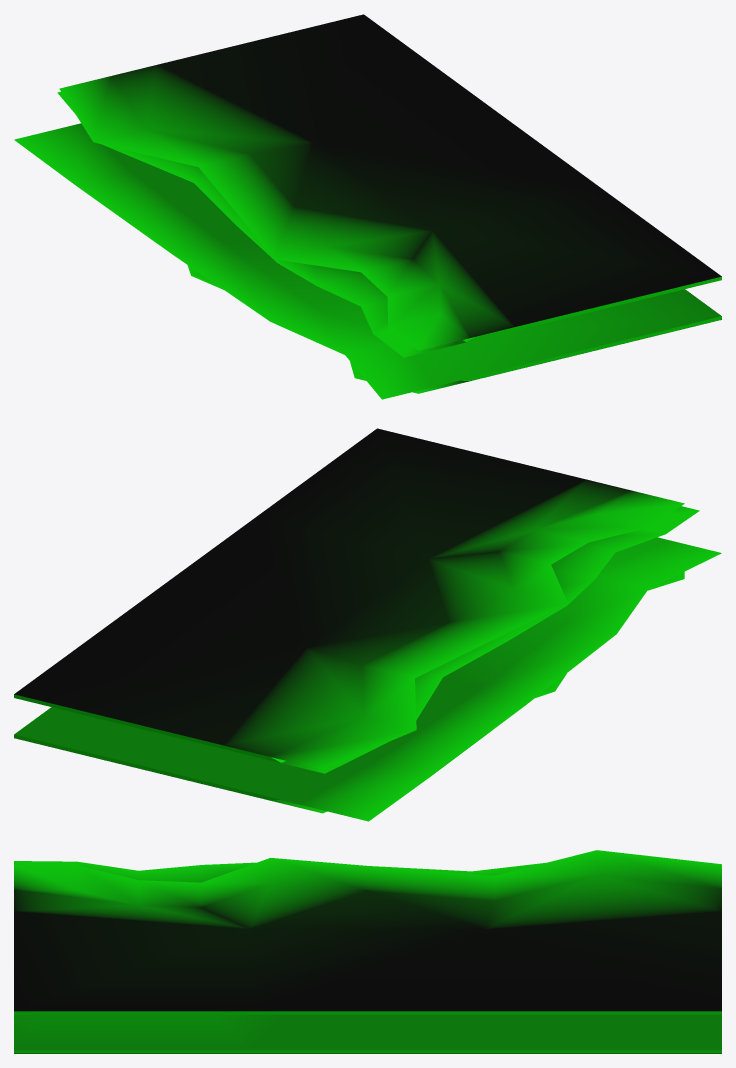
The model's file is DBK_Plywood_Floor_Tile_C.fbx.
3 views of the same model, one above another, from view 1: azimuth 30°, elevation 25°; view 2: azimuth 150°, elevation 25°; view 3: azimuth 270°, elevation 25° (orthographic). The views are drawn at different scales.
Parts seen in each view (by area): view 1: DBK_Plywood_Floor_Tile_C; view 2: DBK_Plywood_Floor_Tile_C; view 3: DBK_Plywood_Floor_Tile_C.
Boxes of the visible parts, x1=… form: DBK_Plywood_Floor_Tile_C: x1=14, y1=14, x2=721, y2=399; DBK_Plywood_Floor_Tile_C: x1=14, y1=428, x2=721, y2=821; DBK_Plywood_Floor_Tile_C: x1=14, y1=850, x2=721, y2=1053.
Bounding box in the file's own units: 171 × 20 × 300.
